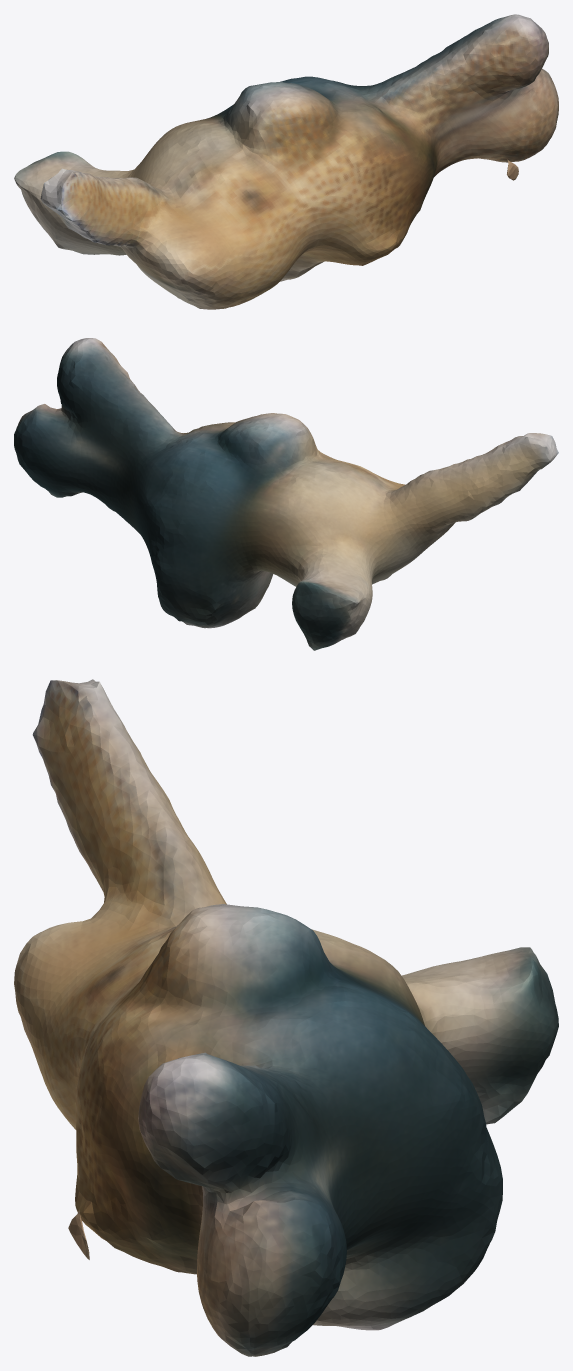
The model's file is rabbit.glb.
The picture shows the model from 3 angles, top to bottom: view 1: azimuth 30°, elevation 25°; view 2: azimuth 150°, elevation 25°; view 3: azimuth 270°, elevation 25°; orthographic projection. The views are drawn at different scales.
Bounding box in the file's own units: 1.03 × 0.4293 × 0.5021.
1 material, 1 textured.
